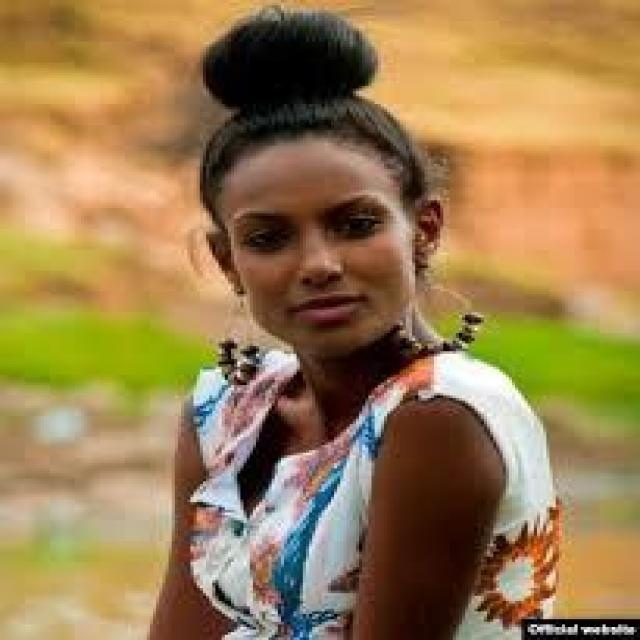person: (150, 8, 568, 637)
